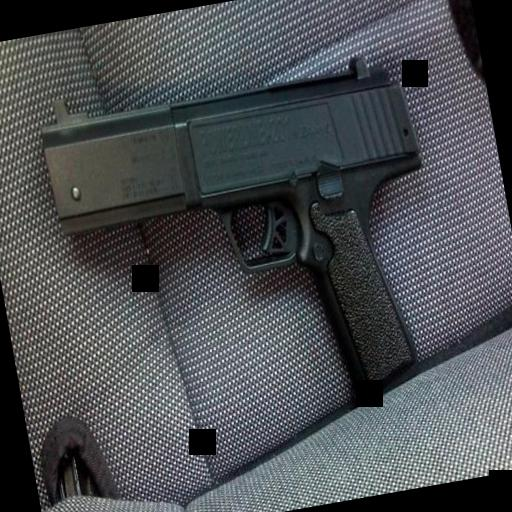Handgun: (32, 28, 458, 454)
